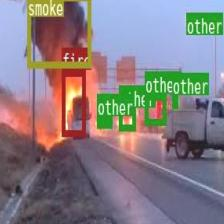fire: (61, 68, 85, 136)
smoke: (26, 0, 90, 66)
